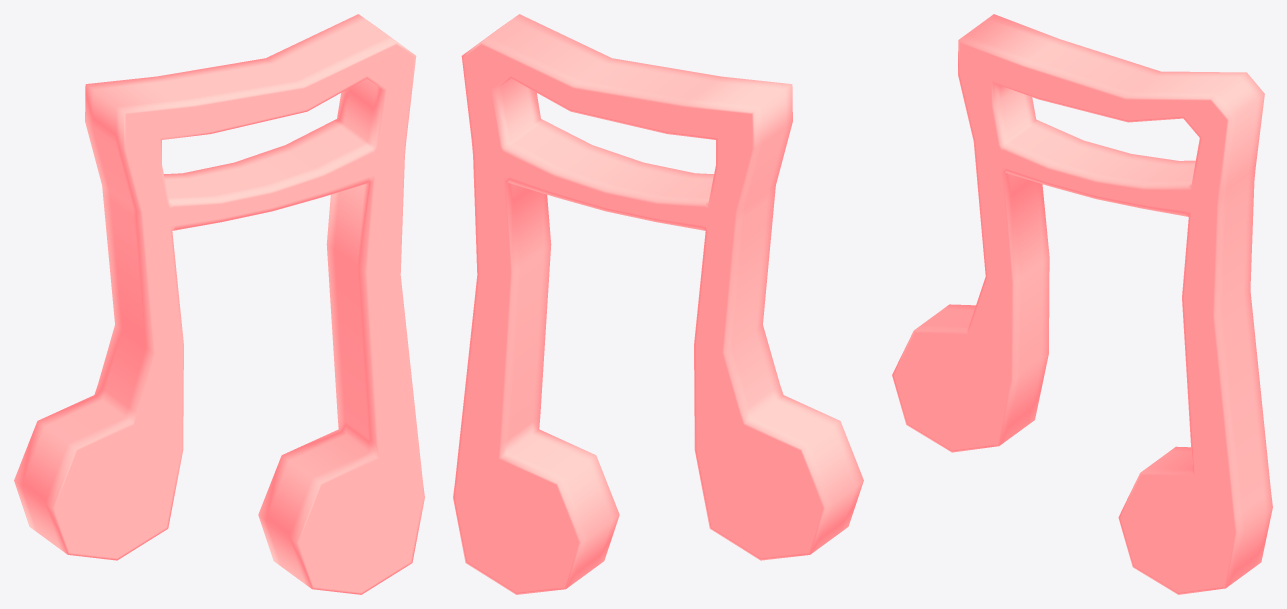
The model's file is Notes_2.glb.
3 renders of one model, left to right at view 1: azimuth 30°, elevation 25°; view 2: azimuth 150°, elevation 25°; view 3: azimuth 330°, elevation 25°, orthographic. The views are drawn at different scales.
Parts seen in each view (by area): view 1: Keys_Obj.002; view 2: Keys_Obj.002; view 3: Keys_Obj.002.
Boxes of the visible parts, x1,y1,x2,y2 form: Keys_Obj.002: (14, 14, 424, 594); Keys_Obj.002: (453, 14, 863, 594); Keys_Obj.002: (892, 14, 1272, 594).
Size of what is drawn, in the model's own units: 1.26 by 1.75 by 0.2246.
